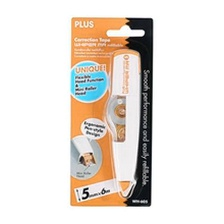book: (64, 13, 156, 208)
correction_fluid: (98, 48, 144, 198)
